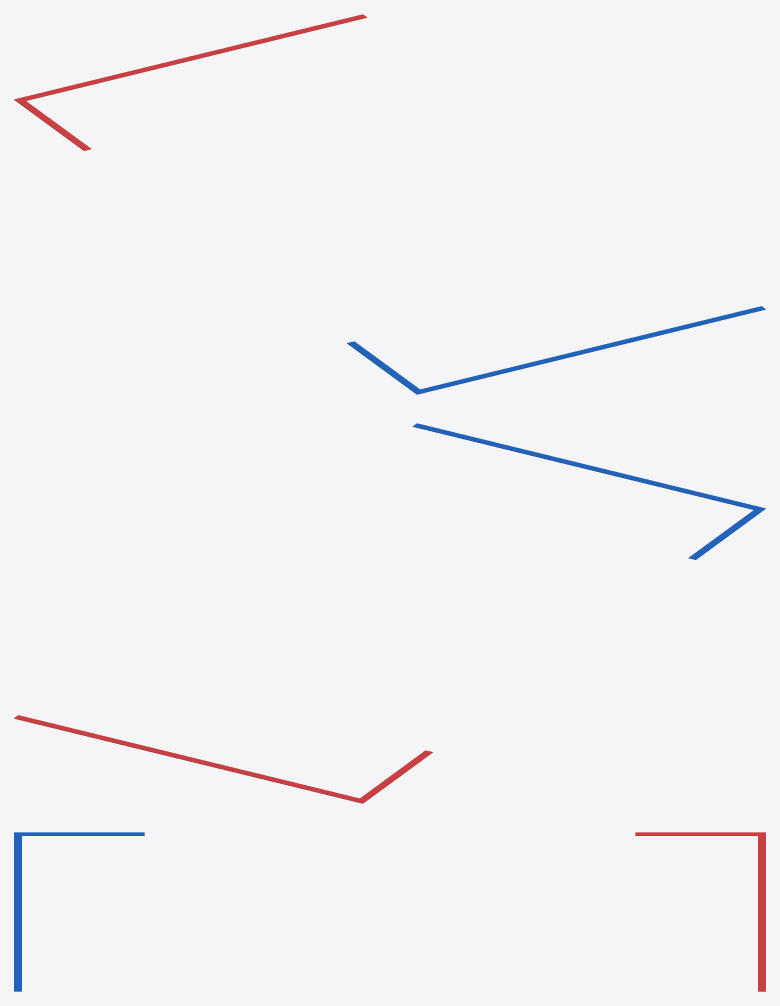
3 views of the same model, one above another, from view 1: azimuth 30°, elevation 25°; view 2: azimuth 150°, elevation 25°; view 3: azimuth 270°, elevation 25° (orthographic). The views are drawn at different scales.
Size of the model in its own units: 46.72 by 0.05 by 93.44.
Materials: 2 (2 with a texture image).
